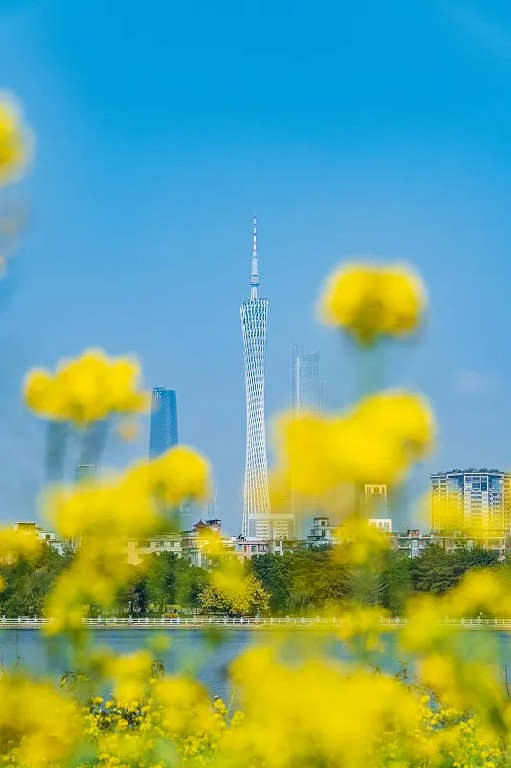Canton: (241, 217, 271, 541)
